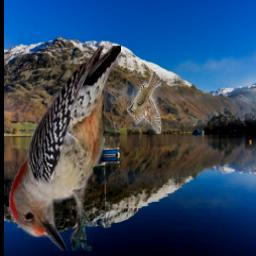Sparrow: (127, 72, 161, 135)
Woodpecker: (10, 47, 122, 252)
